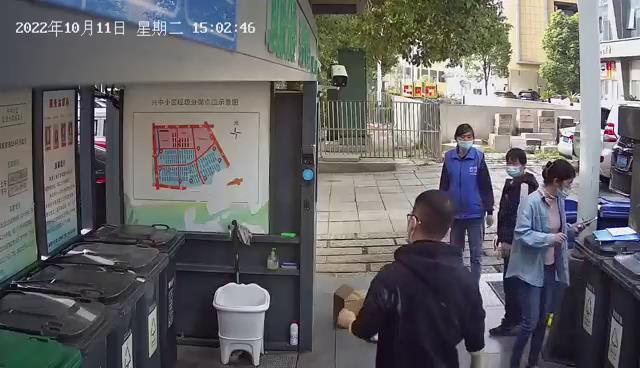person: (336, 185, 491, 368)
worker: (488, 145, 601, 368), (433, 121, 497, 305)
zhizhipin: (330, 283, 368, 327)
